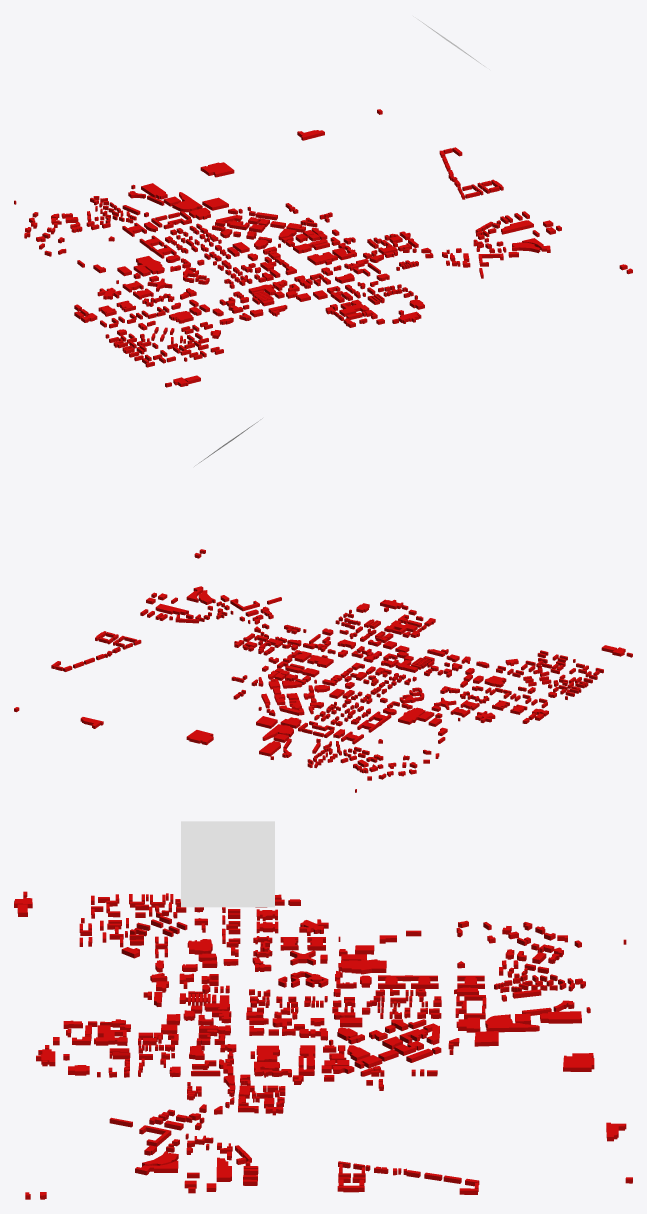
File: West Lafayette Map.fbx
3 views of the same model, one above another, from view 1: azimuth 30°, elevation 25°; view 2: azimuth 150°, elevation 25°; view 3: azimuth 270°, elevation 25° (orthographic). The views are drawn at different scales.
Parts seen in each view (by area): view 1: Purdue Bell Tower; view 2: Purdue Bell Tower; view 3: Purdue Bell Tower, Plane.001.
Boxes of the visible parts, x1,y1,x2,y2 form: Purdue Bell Tower: [14, 109, 632, 387]; Purdue Bell Tower: [14, 549, 632, 792]; Purdue Bell Tower: [14, 891, 632, 1199]; Plane.001: [181, 821, 274, 907].
Size of what is drawn, in the model's own units: 1531 by 693 by 1318.
